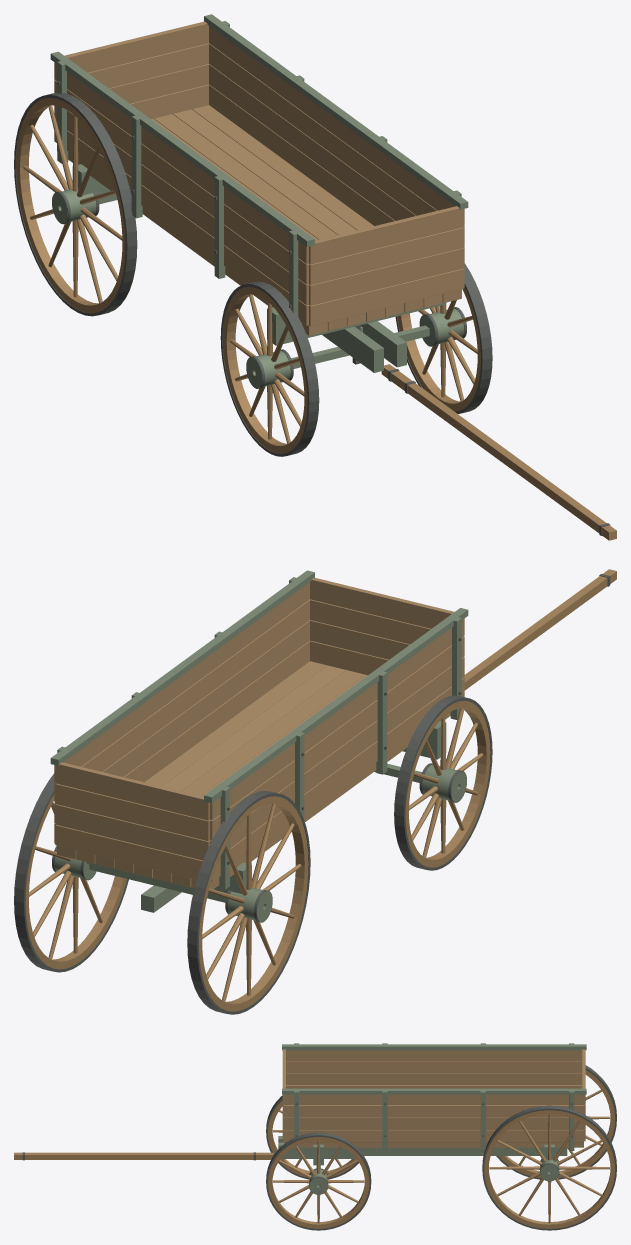
Rendered from wagon-w01.glb.
3 views of the same model, one above another, from view 1: azimuth 30°, elevation 25°; view 2: azimuth 150°, elevation 25°; view 3: azimuth 270°, elevation 25° (orthographic). The views are drawn at different scales.
Parts seen in each view (by area): view 1: vehicle_body_plank_b, vehicle_body_plank_a, vehicle_body_paint, vehicle_wheel_rear_right_timber, vehicle_wheel_front_right_timber, vehicle_wheel_rear_right_iron, vehicle_tongue_timber, vehicle_wheel_front_left_timber, vehicle_steer_front_paint, vehicle_wheel_front_right_iron, vehicle_wheel_front_left_iron, vehicle_root_paint (+3 smaller); view 2: vehicle_body_plank_b, vehicle_body_plank_a, vehicle_body_paint, vehicle_wheel_rear_right_timber, vehicle_wheel_front_right_timber, vehicle_wheel_rear_left_timber, vehicle_wheel_rear_right_iron, vehicle_wheel_front_right_iron, vehicle_wheel_rear_left_iron, vehicle_tongue_timber, vehicle_root_paint, vehicle_wheel_front_right_paint (+2 smaller); view 3: vehicle_body_plank_b, vehicle_body_plank_a, vehicle_body_paint, vehicle_wheel_rear_left_timber, vehicle_wheel_front_left_timber, vehicle_tongue_timber, vehicle_root_paint, vehicle_wheel_rear_left_iron, vehicle_wheel_rear_right_timber, vehicle_wheel_front_left_iron, vehicle_steer_front_paint, vehicle_wheel_front_right_timber (+4 smaller).
Boxes of the visible parts, x1,y1,x2,y2 form: vehicle_body_plank_b: [54, 21, 464, 331]; vehicle_body_plank_a: [54, 43, 464, 335]; vehicle_body_paint: [50, 14, 468, 316]; vehicle_wheel_rear_right_timber: [16, 98, 125, 313]; vehicle_wheel_front_right_timber: [223, 286, 307, 453]; vehicle_wheel_rear_right_iron: [14, 93, 137, 316]; vehicle_tongue_timber: [381, 364, 616, 540]; vehicle_wheel_front_left_timber: [397, 287, 480, 411]; vehicle_steer_front_paint: [291, 321, 429, 372]; vehicle_wheel_front_right_iron: [220, 281, 319, 456]; vehicle_wheel_front_left_iron: [395, 263, 492, 413]; vehicle_root_paint: [72, 164, 446, 345]; vehicle_body_plank_b: [54, 577, 464, 887]; vehicle_body_plank_a: [54, 599, 464, 889]; vehicle_body_paint: [50, 570, 468, 889]; vehicle_wheel_rear_right_timber: [199, 796, 308, 1011]; vehicle_wheel_front_right_timber: [405, 700, 490, 867]; vehicle_wheel_rear_left_timber: [25, 794, 126, 969]; vehicle_wheel_rear_right_iron: [187, 791, 310, 1014]; vehicle_wheel_front_right_iron: [394, 695, 492, 870]; vehicle_wheel_rear_left_iron: [14, 773, 128, 972]; vehicle_tongue_timber: [464, 569, 616, 690]; vehicle_root_paint: [87, 721, 446, 912]; vehicle_wheel_front_right_paint: [422, 764, 466, 802]; vehicle_body_plank_b: [282, 1049, 585, 1147]; vehicle_body_plank_a: [282, 1061, 585, 1142]; vehicle_body_paint: [282, 1043, 586, 1150]; vehicle_wheel_rear_left_timber: [484, 1110, 615, 1228]; vehicle_wheel_front_left_timber: [268, 1137, 369, 1228]; vehicle_tongue_timber: [14, 1152, 284, 1159]; vehicle_root_paint: [313, 1144, 567, 1165]; vehicle_wheel_rear_left_iron: [482, 1105, 616, 1230]; vehicle_wheel_rear_right_timber: [498, 1070, 615, 1177]; vehicle_wheel_front_left_iron: [266, 1132, 371, 1230]; vehicle_steer_front_paint: [278, 1136, 362, 1185]; vehicle_wheel_front_right_timber: [268, 1100, 356, 1177].
Bounding box in the file's own units: 1.43 × 1.53 × 6.14.
